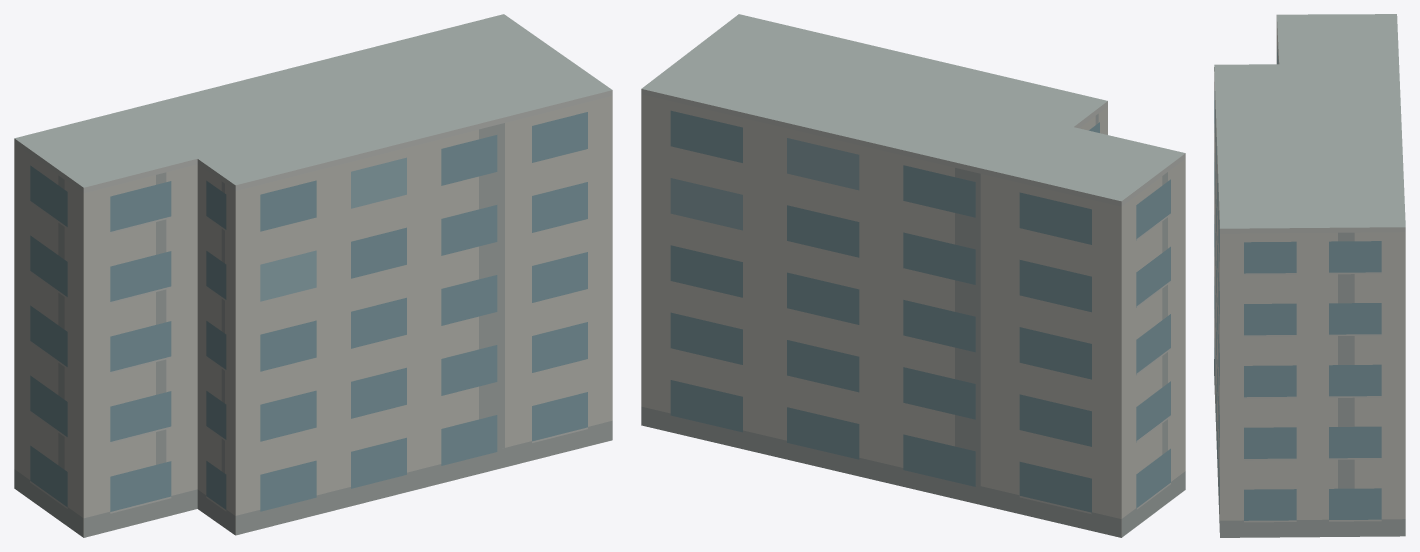
The model's file is survey-upis-32761202.glb.
3 views of the same model, side by side, from view 1: azimuth 30°, elevation 25°; view 2: azimuth 150°, elevation 25°; view 3: azimuth 270°, elevation 25° (orthographic). The views are drawn at different scales.
Parts seen in each view (by area): view 1: survey-upis-32761202.tmp; view 2: survey-upis-32761202.tmp; view 3: survey-upis-32761202.tmp.
Boxes of the visible parts, x1=… form: survey-upis-32761202.tmp: x1=14, y1=14, x2=612, y2=537; survey-upis-32761202.tmp: x1=641, y1=14, x2=1185, y2=537; survey-upis-32761202.tmp: x1=1214, y1=14, x2=1405, y2=537.
Size of the model in its own units: 22.72 by 15.25 by 8.57.
